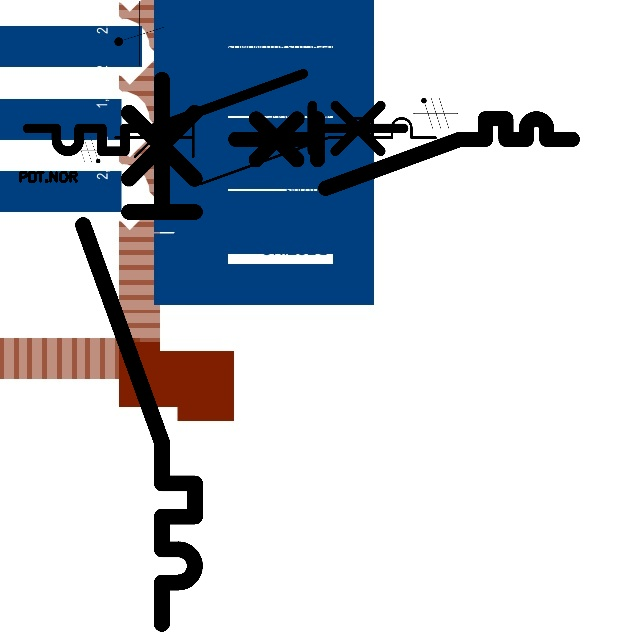interruptor_termomagnetico: (69, 65, 209, 637), (18, 64, 413, 161), (227, 110, 581, 196), (107, 110, 444, 192)
